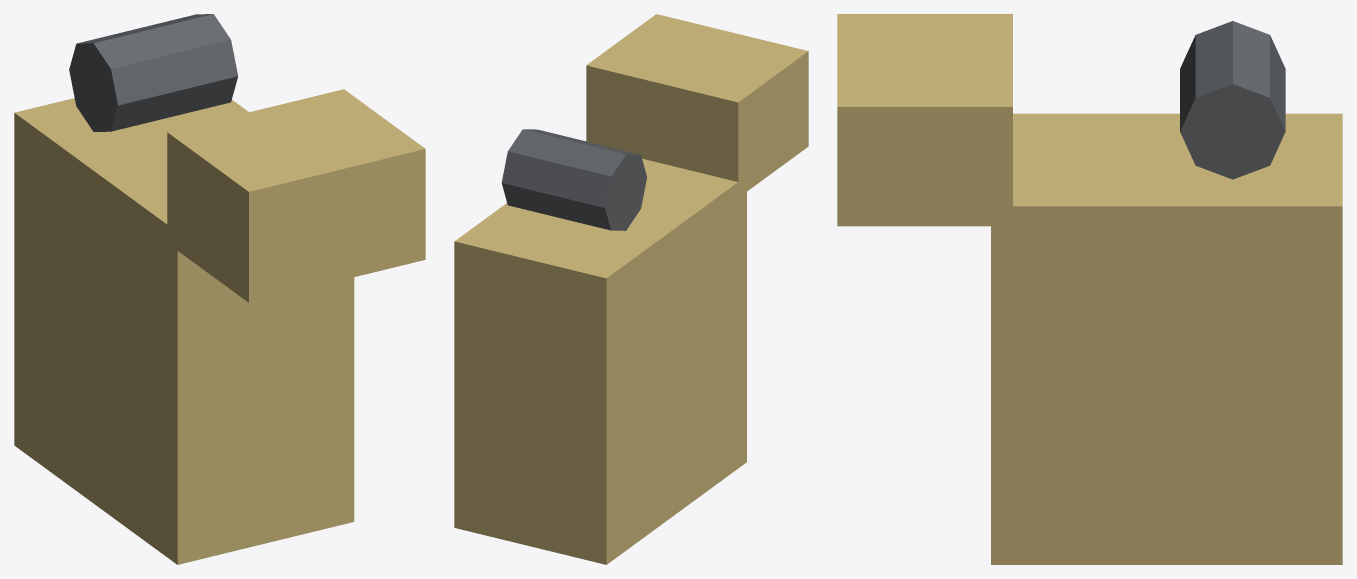
The model's file is Lighter.fbx.
3 views of the same model, side by side, from view 1: azimuth 30°, elevation 25°; view 2: azimuth 150°, elevation 25°; view 3: azimuth 270°, elevation 25° (orthographic). The views are drawn at different scales.
Parts seen in each view (by area): view 1: Body, Lid, Wheel; view 2: Body, Lid, Wheel; view 3: Body, Lid, Wheel.
Part boxes in pixels (x1,y1,x2,y2): Body: (14, 98, 354, 564); Lid: (167, 89, 425, 302); Wheel: (69, 14, 238, 131); Body: (454, 158, 746, 564); Lid: (586, 14, 808, 191); Wheel: (501, 129, 646, 230); Body: (991, 113, 1342, 564); Lid: (837, 14, 1012, 226); Wheel: (1180, 21, 1285, 179).
Bounding box in the file's own units: 0.05 × 0.117 × 0.115.
